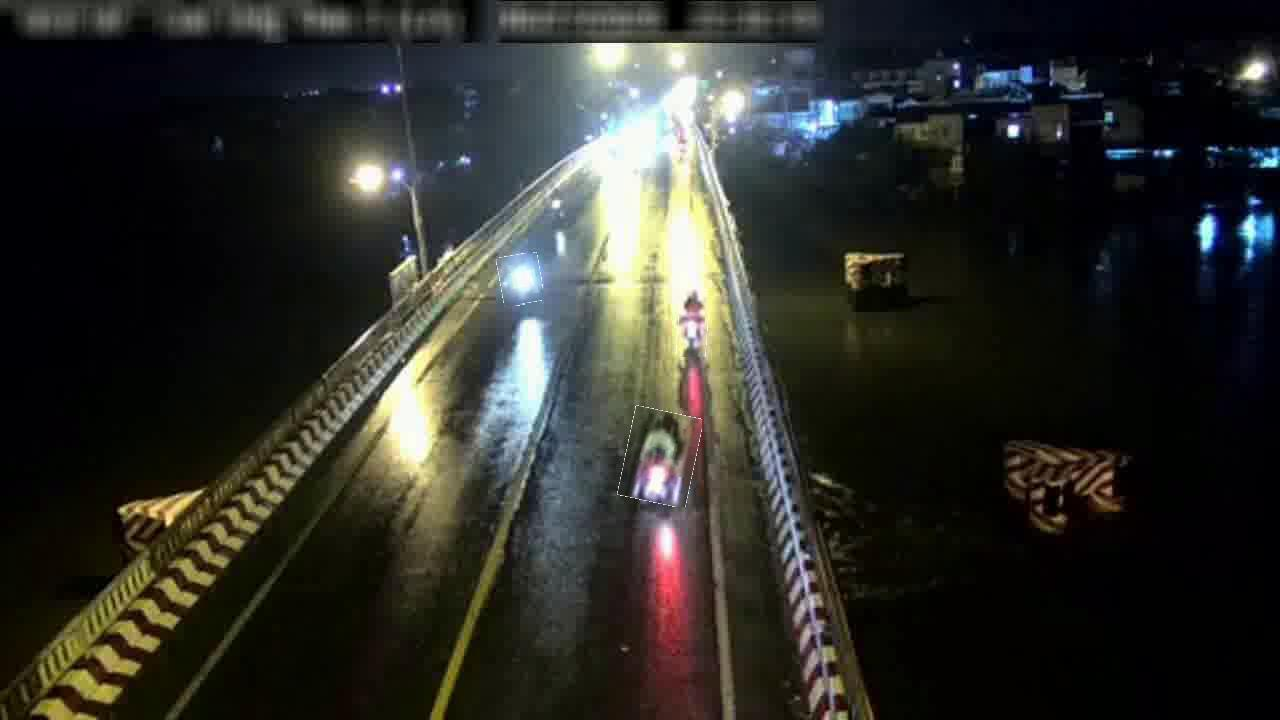motorbike: (622, 408, 699, 505), (498, 254, 543, 306), (677, 289, 708, 358)
